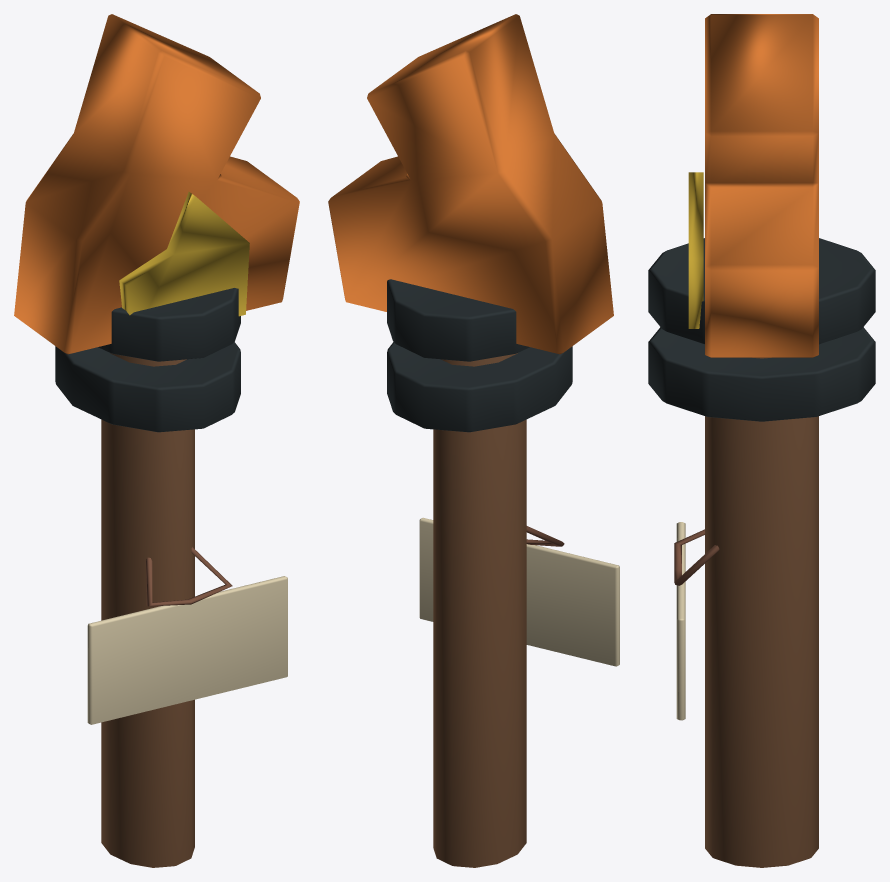
Rendered from P030_fake_torch_rebuilt.glb.
The picture shows the model from 3 angles, left to right: view 1: azimuth 30°, elevation 25°; view 2: azimuth 150°, elevation 25°; view 3: azimuth 270°, elevation 25°; orthographic projection.
Parts seen in each view (by area): view 1: Torch_painted_orange_shell, wood, paper, dark, yellow, leather; view 2: Torch_painted_orange_shell, wood, dark, paper; view 3: wood, Torch_painted_orange_shell, dark, yellow, paper, leather.
Part boxes in pixels (<box>): Torch_painted_orange_shell: <box>14,14,299,354</box>; wood: <box>101,353,194,867</box>; paper: <box>87,576,287,724</box>; dark: <box>55,288,240,432</box>; yellow: <box>119,191,249,316</box>; leather: <box>145,547,232,606</box>; Torch_painted_orange_shell: <box>328,14,613,354</box>; wood: <box>433,353,526,867</box>; dark: <box>387,279,572,432</box>; paper: <box>419,517,619,666</box>; wood: <box>705,357,818,867</box>; Torch_painted_orange_shell: <box>705,14,818,357</box>; dark: <box>648,238,875,421</box>; yellow: <box>688,172,703,328</box>; paper: <box>676,522,685,720</box>; leather: <box>674,529,719,585</box>.
Size of the model in its own units: 0.1674 by 0.555 by 0.1378.
